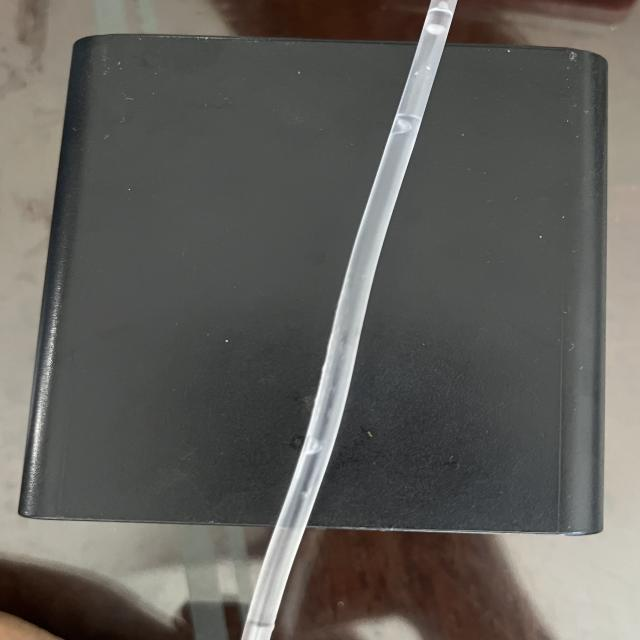bubble: (405, 20, 463, 50), (378, 108, 423, 144), (293, 425, 329, 468)
